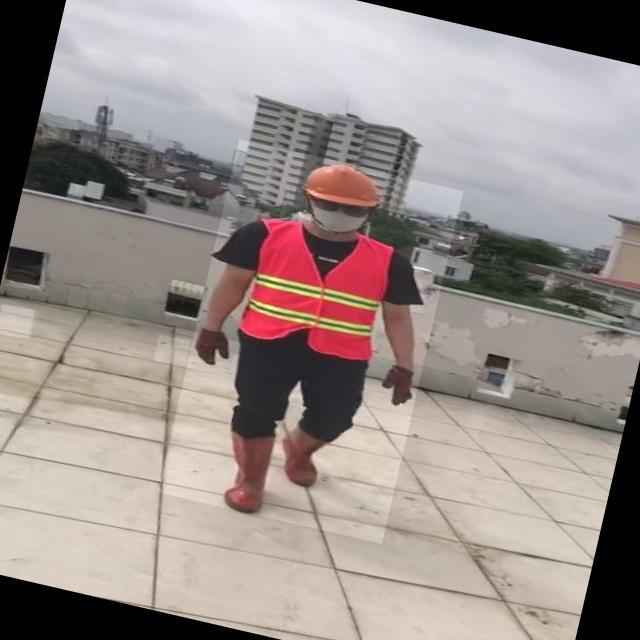Gloves: (190, 326, 235, 371), (378, 363, 418, 406)
Helmet: (298, 155, 385, 212)
Human: (157, 140, 463, 545)
Safety Boot: (208, 427, 278, 516), (272, 424, 329, 490)
Safety Vest: (231, 213, 396, 365)
